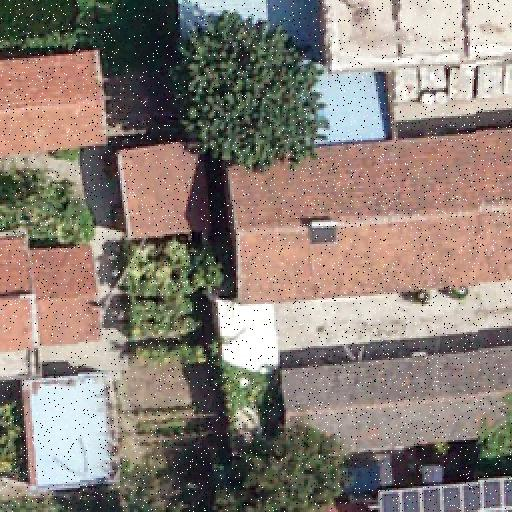solar-panel: (373, 470, 512, 512)
